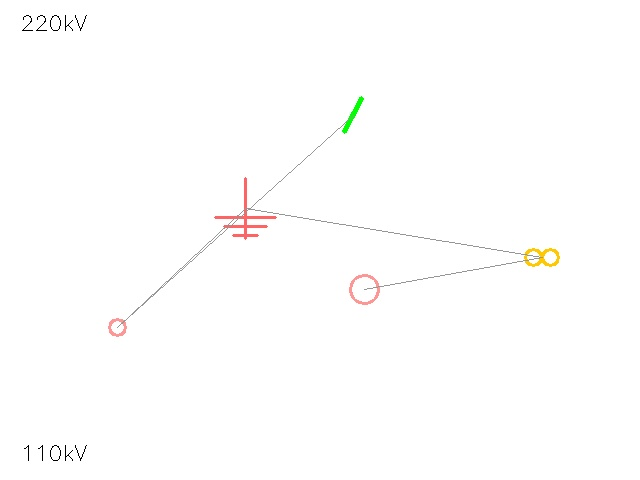busbar: (330, 92, 376, 138)
disconnect_switch: (100, 310, 134, 344)
fuse: (335, 260, 393, 318)
ground: (215, 178, 275, 238)
transformer_2w: (520, 235, 564, 279)
